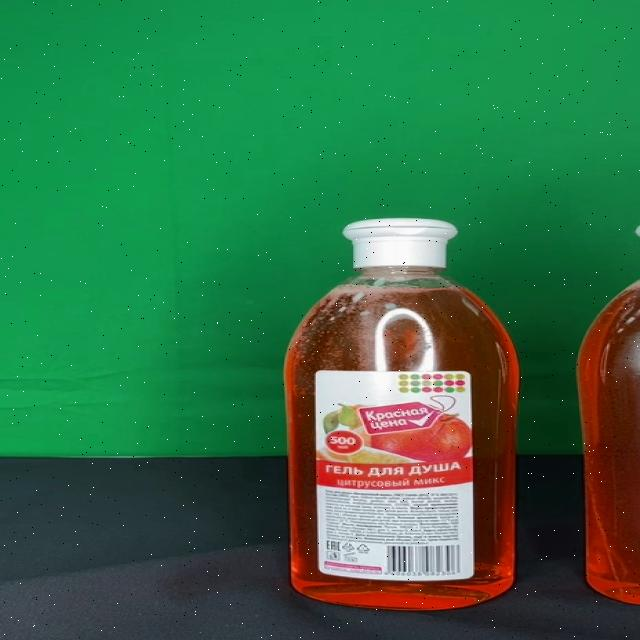Bottle: (285, 216, 522, 612)
Cap: (343, 218, 458, 268)
